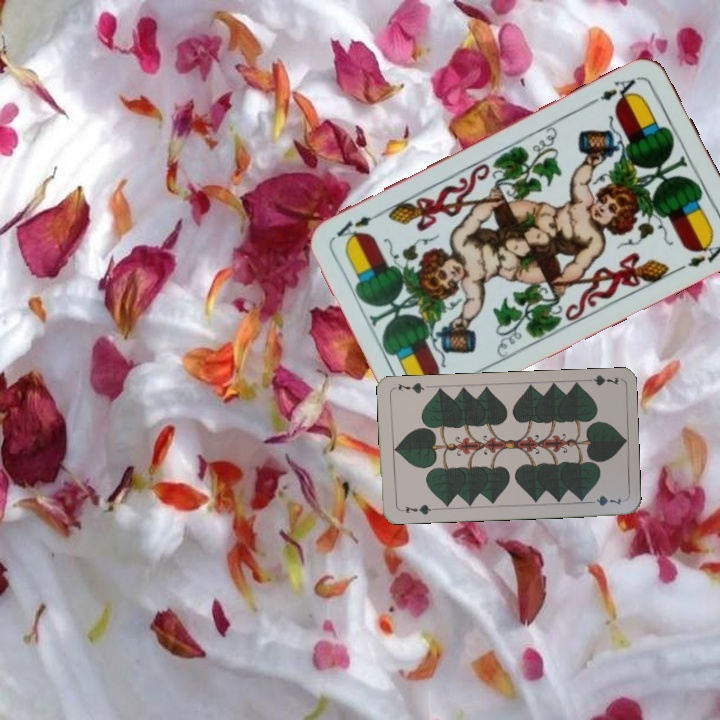EA: (596, 72, 642, 107)
G7: (580, 371, 620, 388), (402, 500, 436, 517)
